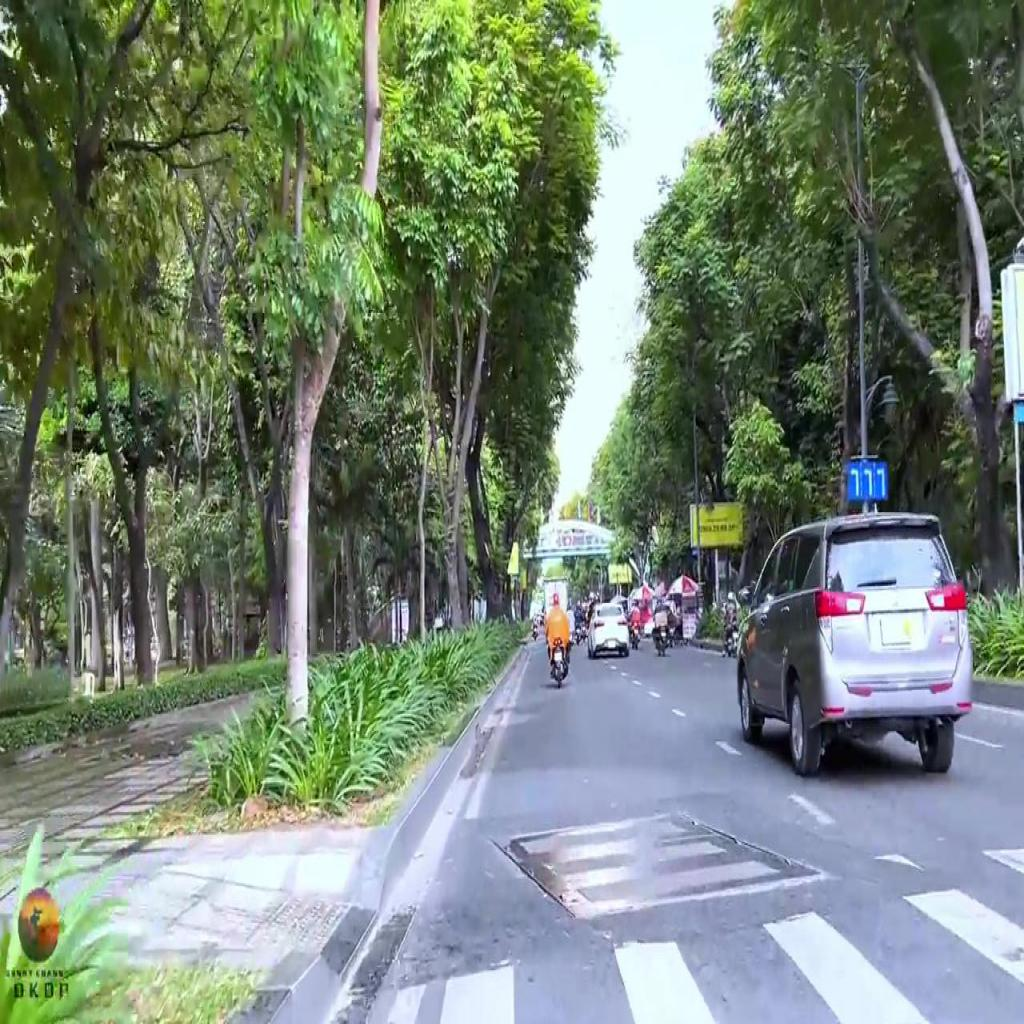huong_di_tren_moi_lan_duong_theo_vach_ke_duong: (846, 462, 888, 504)
